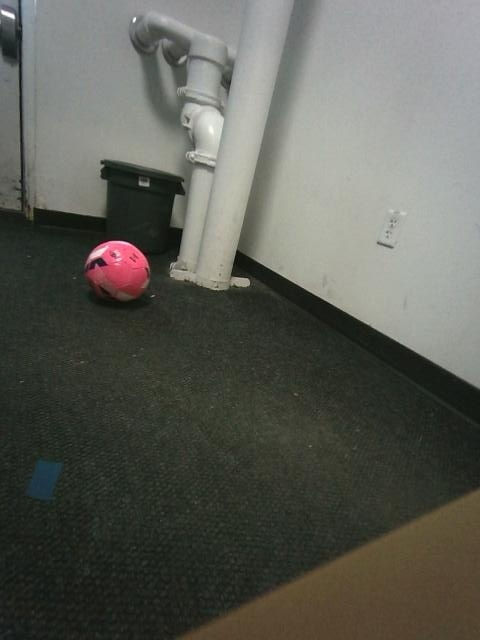ball: (84, 241, 149, 301)
